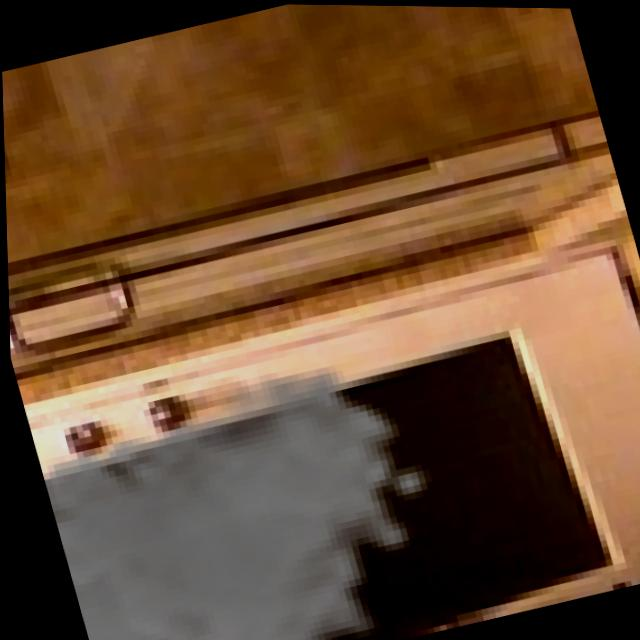smoke: (25, 337, 468, 640)
